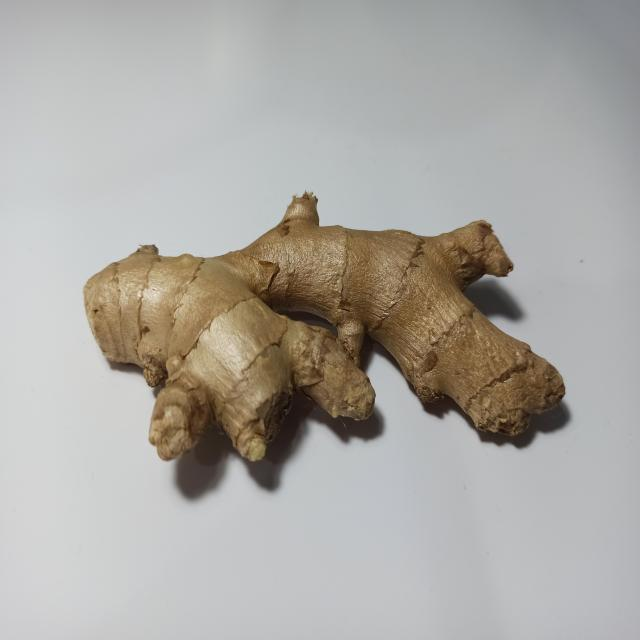ginger: (86, 211, 554, 449)
